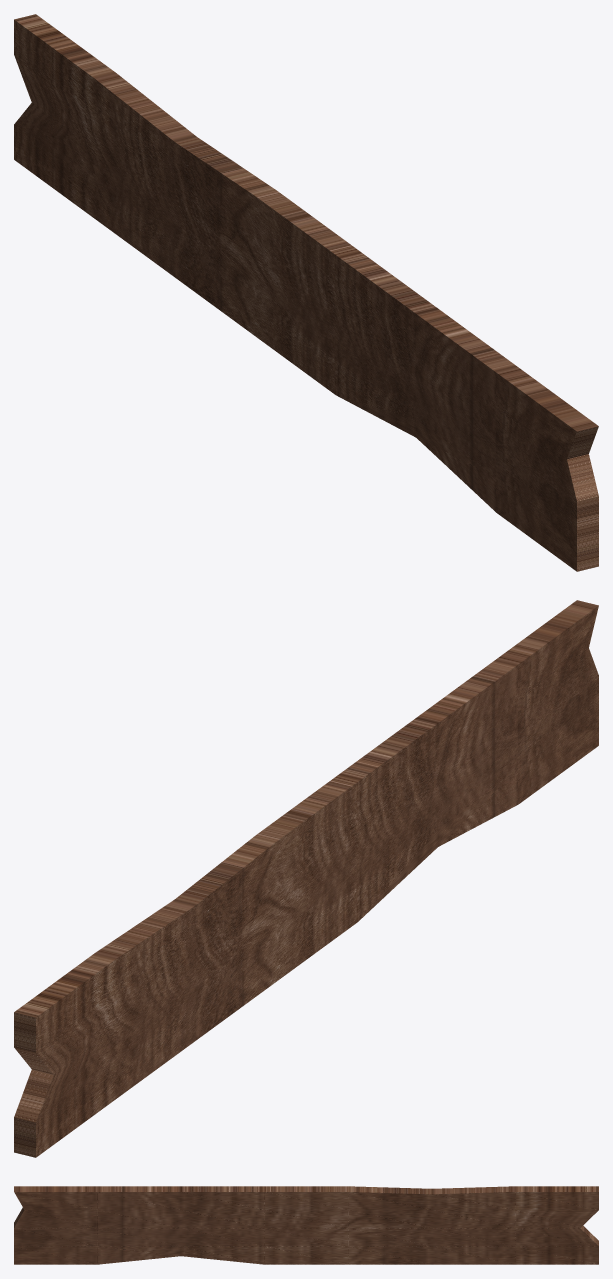
File: wooden board 1.fbx
3 views of the same model, one above another, from view 1: azimuth 30°, elevation 25°; view 2: azimuth 150°, elevation 25°; view 3: azimuth 270°, elevation 25° (orthographic). The views are drawn at different scales.
Parts seen in each view (by area): view 1: Wooden Board; view 2: Wooden Board; view 3: Wooden Board.
Boxes of the visible parts, x1=… form: Wooden Board: x1=14, y1=14, x2=598, y2=571; Wooden Board: x1=14, y1=600, x2=598, y2=1157; Wooden Board: x1=14, y1=1186, x2=598, y2=1264.
Bounding box in the file's own units: 131 × 2.95 × 17.99.
